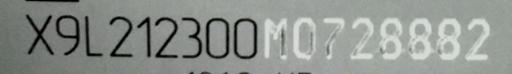letter: (24, 12, 54, 55), (348, 16, 376, 60), (262, 16, 290, 60), (54, 12, 80, 58), (320, 15, 346, 61), (435, 15, 461, 61), (290, 16, 318, 58), (82, 11, 106, 59), (378, 16, 404, 60), (406, 16, 432, 60), (107, 15, 133, 57), (153, 16, 179, 58), (204, 16, 230, 58), (232, 16, 258, 58), (179, 15, 203, 59), (464, 16, 488, 60), (134, 15, 154, 57)
